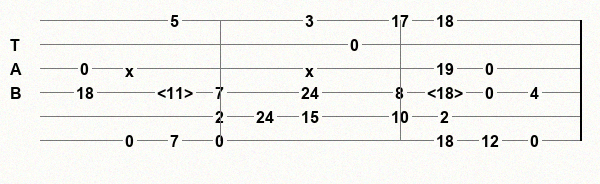0: (80, 60, 93, 76), (125, 132, 138, 148), (215, 132, 228, 148), (350, 36, 363, 52), (485, 84, 498, 100), (485, 60, 498, 76), (530, 132, 543, 148)
10: (391, 108, 413, 124)
12: (481, 132, 503, 148)
15: (301, 108, 323, 124)
17: (391, 12, 413, 28)
18: (76, 84, 98, 100), (436, 132, 458, 148), (436, 12, 458, 28)
19: (436, 60, 458, 76)
2: (215, 108, 228, 124), (440, 108, 453, 124)
24: (256, 108, 278, 124), (301, 84, 323, 100)
3: (305, 12, 318, 28)
4: (530, 84, 543, 100)
5: (170, 12, 183, 28)
7: (170, 132, 183, 148), (215, 84, 228, 100)
8: (395, 84, 408, 100)
harmonic: (157, 84, 197, 100), (427, 84, 467, 100)
x: (125, 62, 138, 75), (305, 62, 318, 75)
